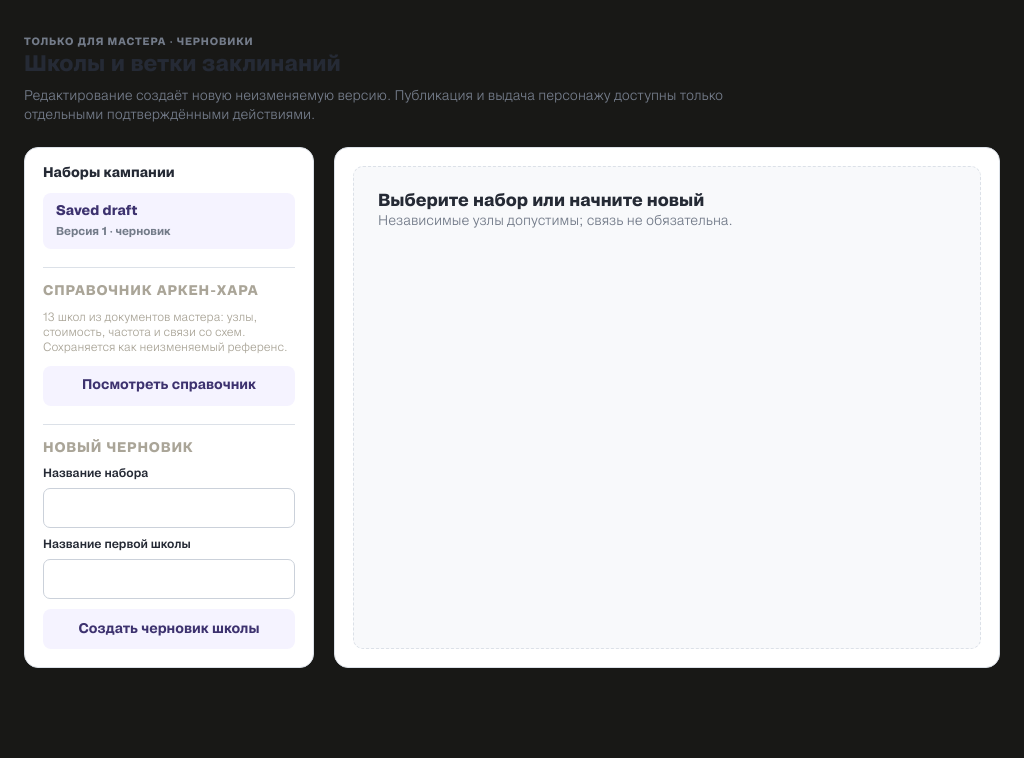
Test case: SpellSchoolsWorkspace › does not activate persisted contents after the loaded draft has unsaved edits
This screenshot has width=1024, height=758.
Click the button "Saved draft Версия 1 · черновик": (169, 221) [43,193,295,249]
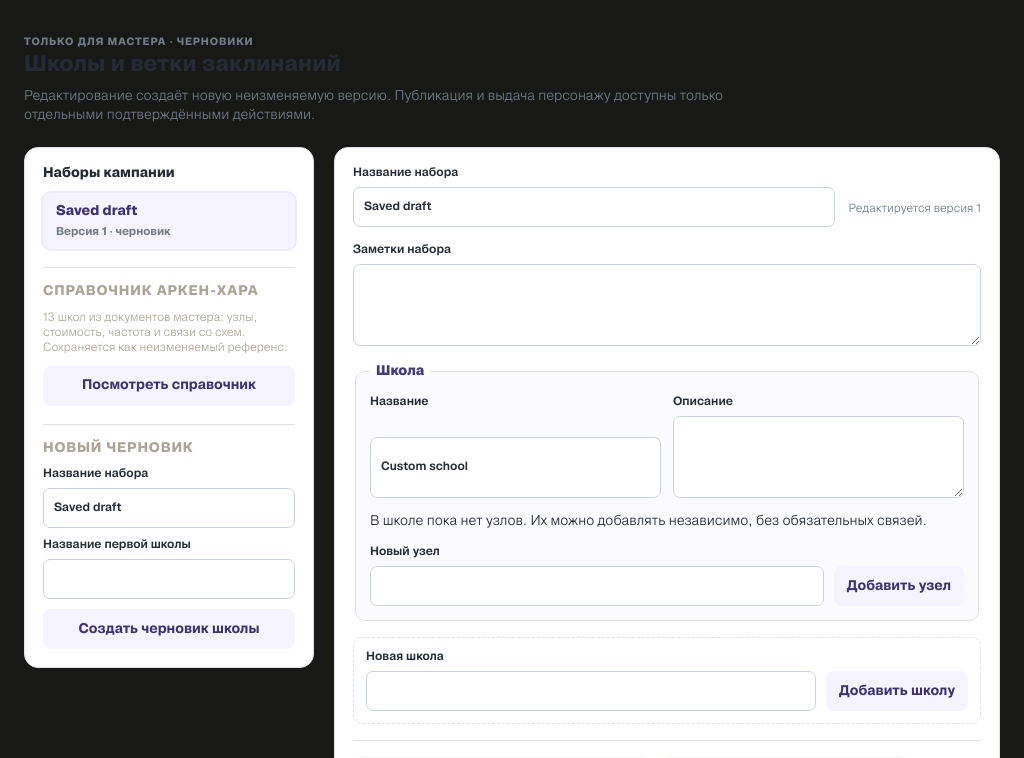
In the text box labelled "Описание": (818, 457) [673,416,964,498], type "Unsaved change"
(page scrolled)
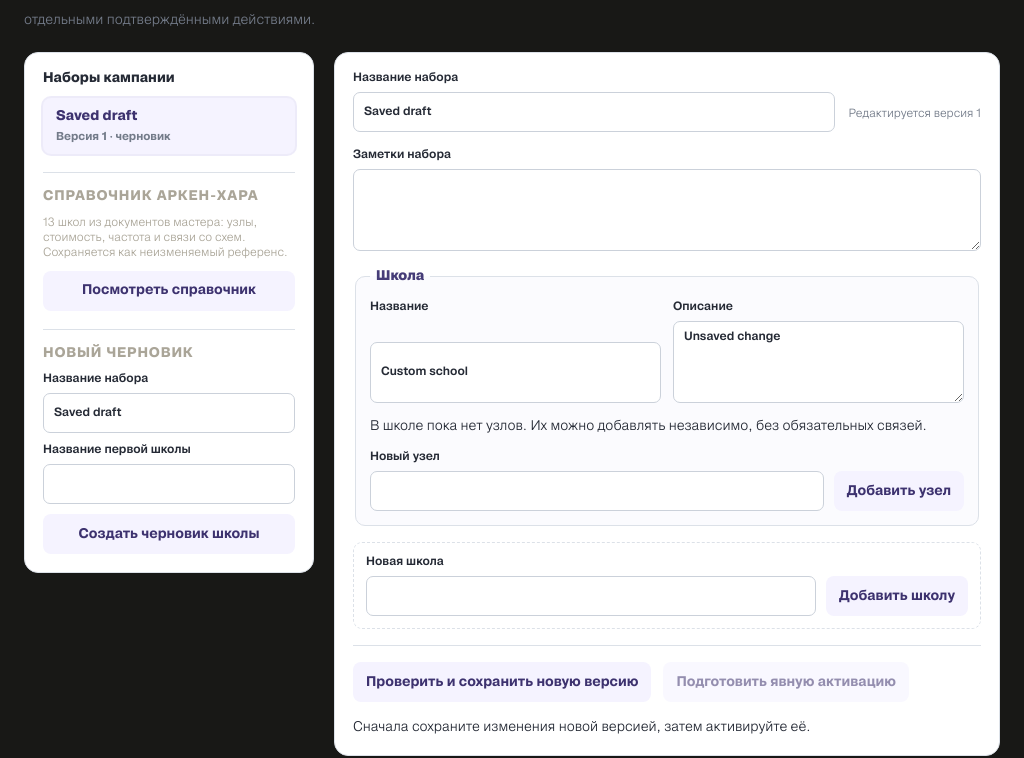
Result: the button "Подготовить явную активацию" is disabled at [663,662,909,702]
Result: the text "Сначала сохраните изменения новой версией, затем активируйте её." is shown at [353,721,810,734]
